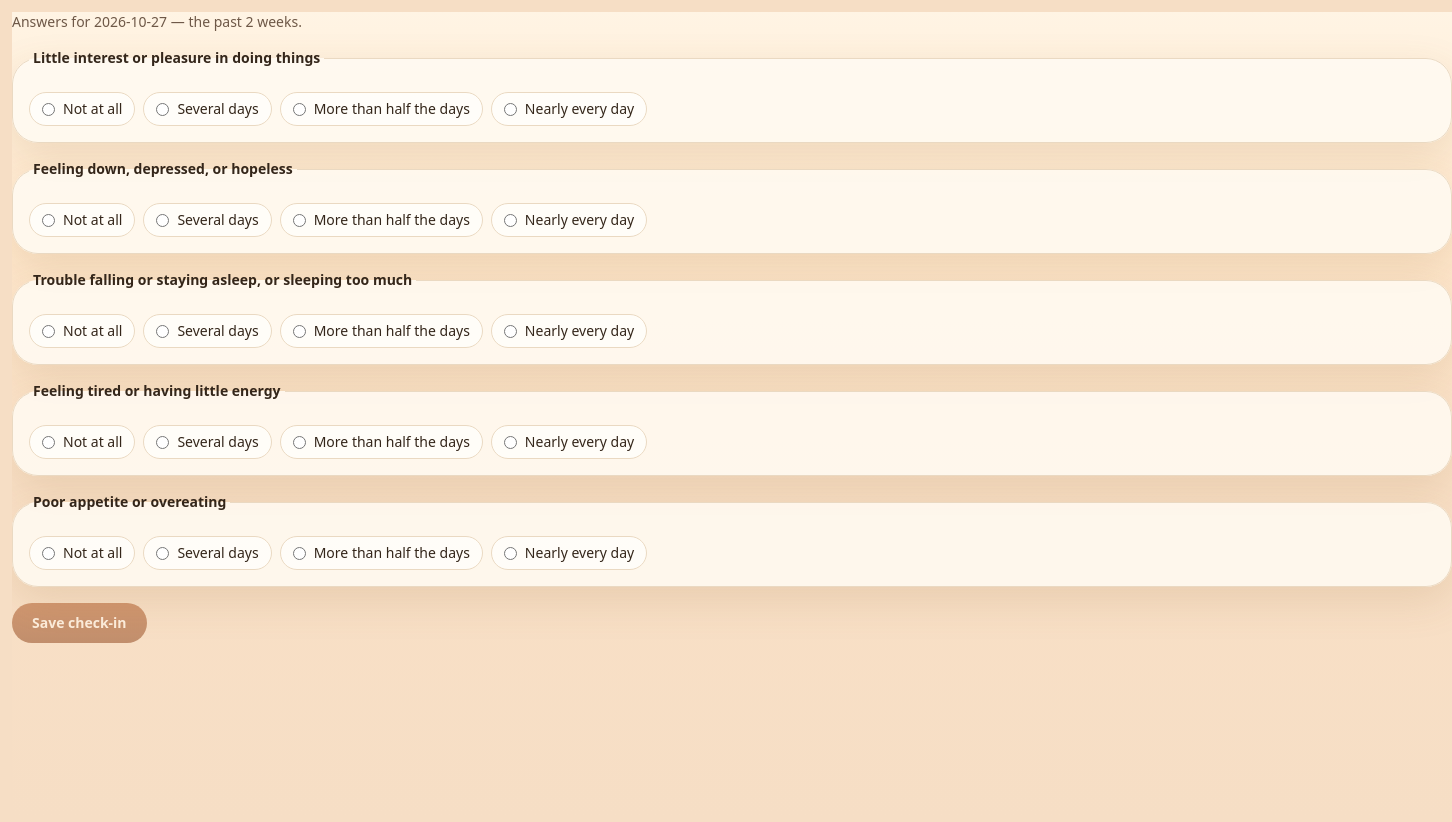
Scenario: CheckInForm submission gating › keeps submit disabled until every item is answered
Expected: the button "Save check-in" is disabled, [12,603,147,643]
Click the 1st radio button labelled "Not at all" at (48,109), box [42,102,55,116]
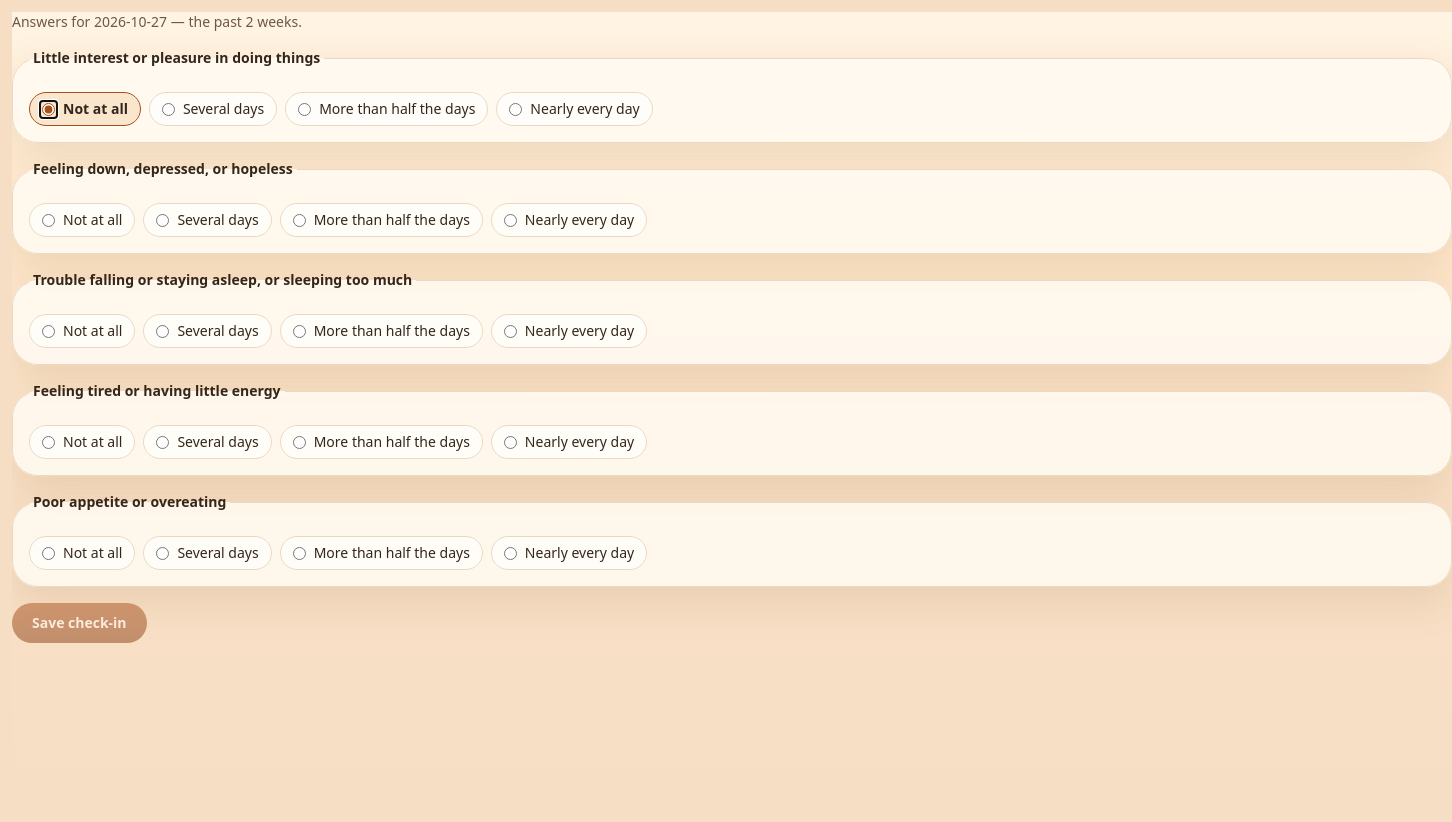
Expected: the button "Save check-in" is disabled, [12,603,147,643]
Click the radio button labelled "Not at all" below "Feeling down, depressed, or hopeless" at (48,220), box [42,214,55,226]
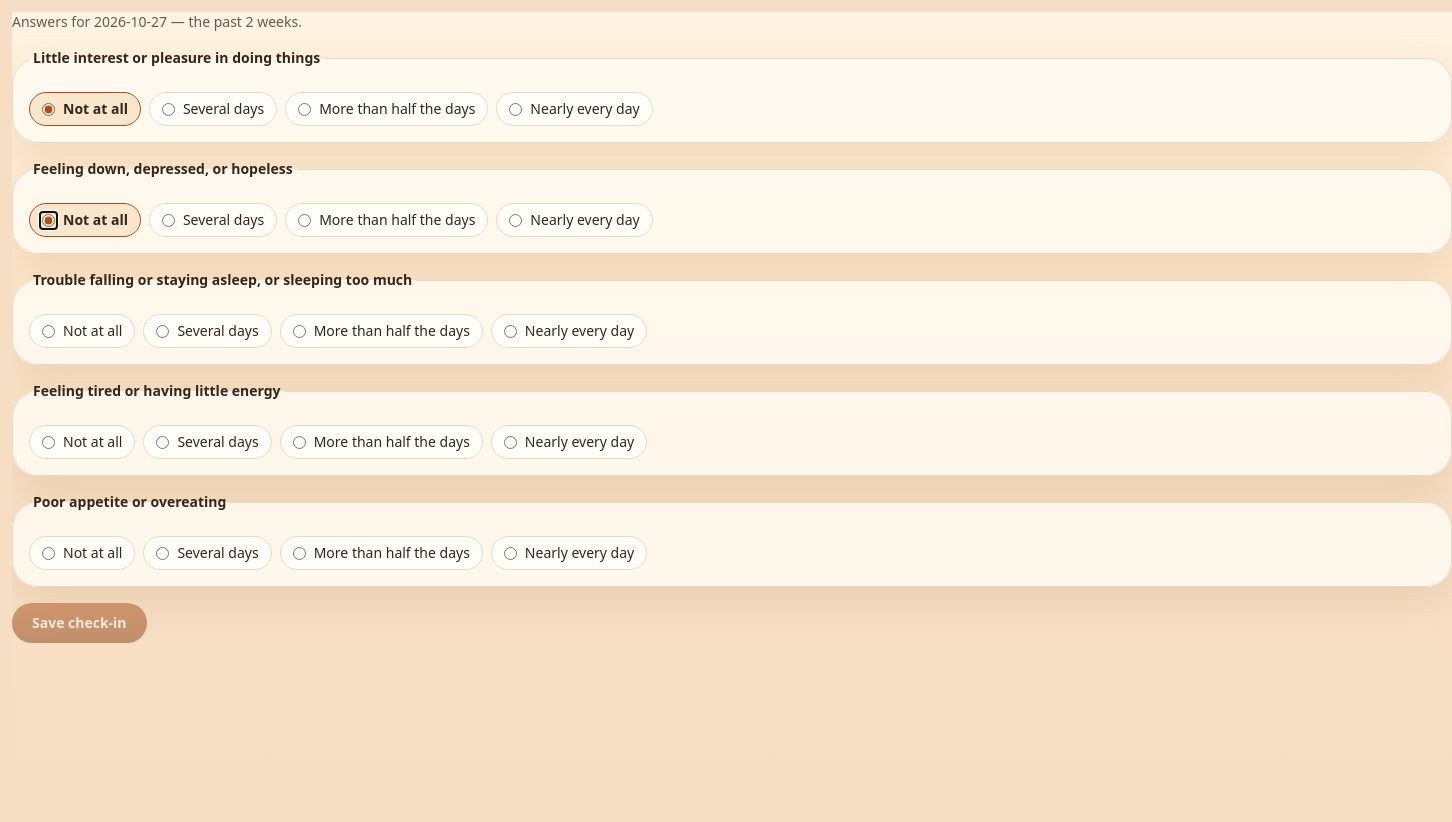
Expected: the button "Save check-in" is disabled, [12,603,147,643]
Click the 3rd radio button labelled "Not at all" at (48,331), box [42,324,55,338]
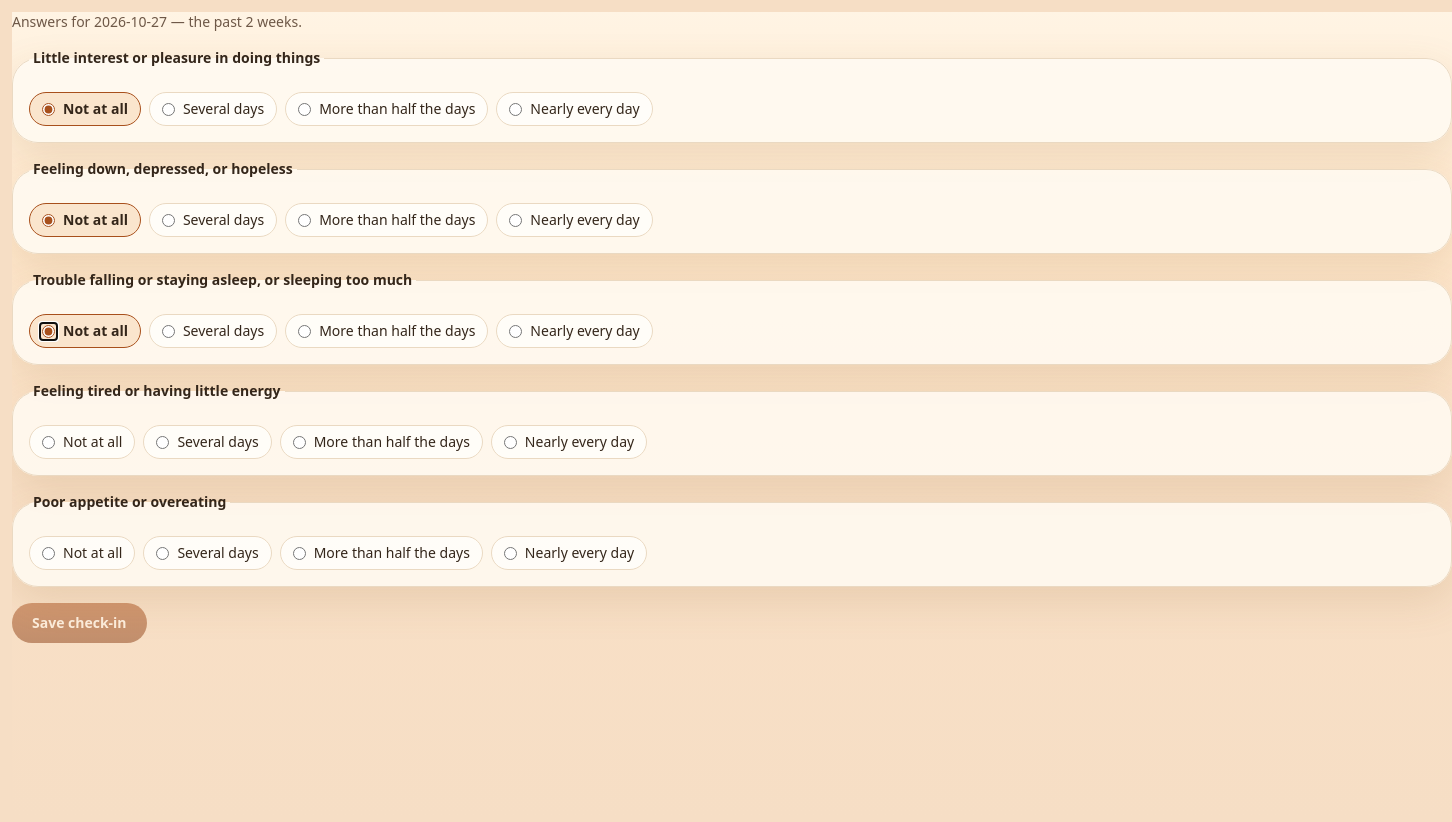
Expected: the button "Save check-in" is disabled, [12,603,147,643]
Click the radio button labelled "Not at all" below "Feeling tired or having little energy" at (48,442), box [42,436,55,448]
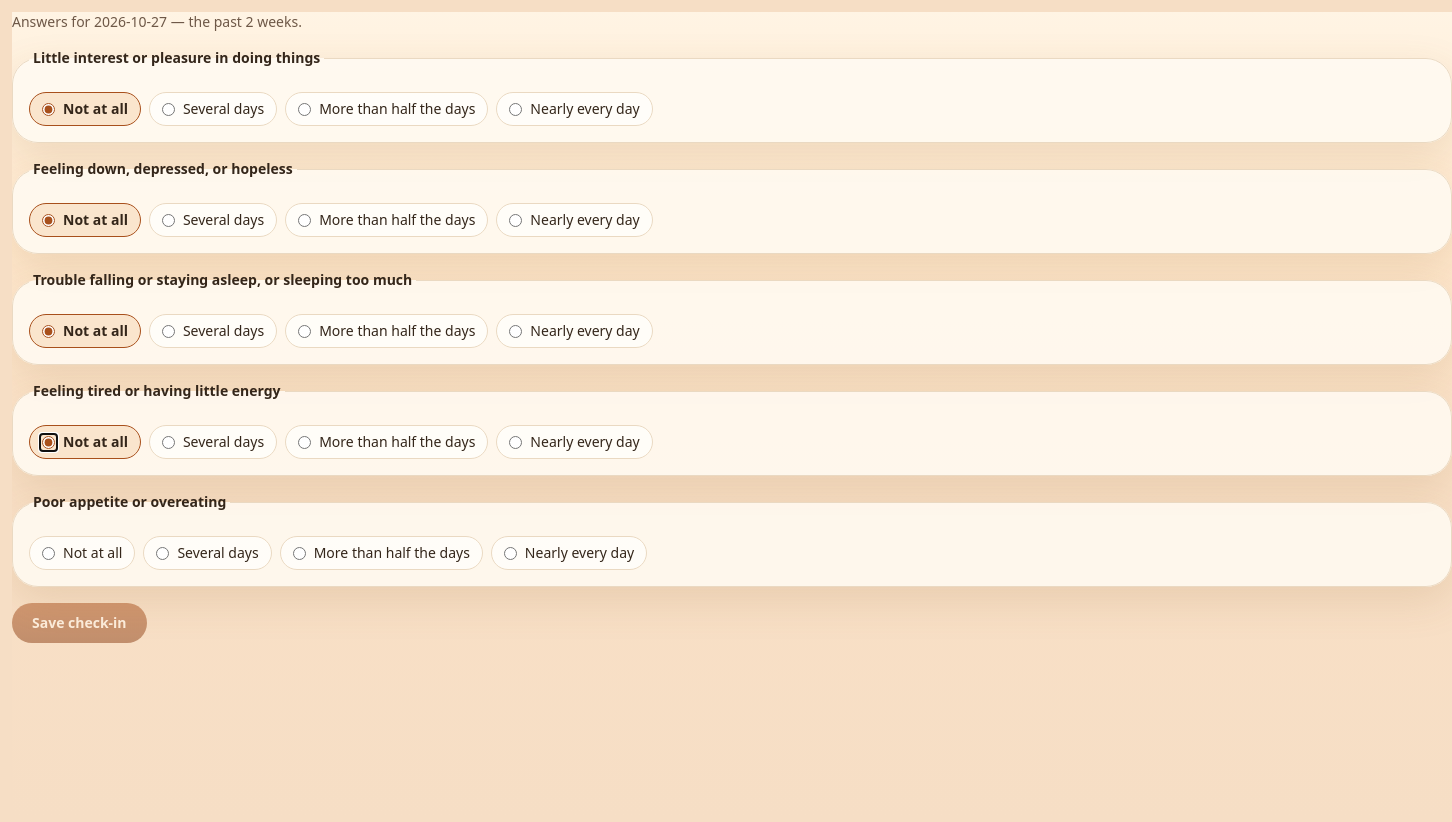
Expected: the button "Save check-in" is disabled, [12,603,147,643]
Click the radio button labelled "Not at all" below "Poor appetite or overeating" at (48,553), box [42,546,55,560]
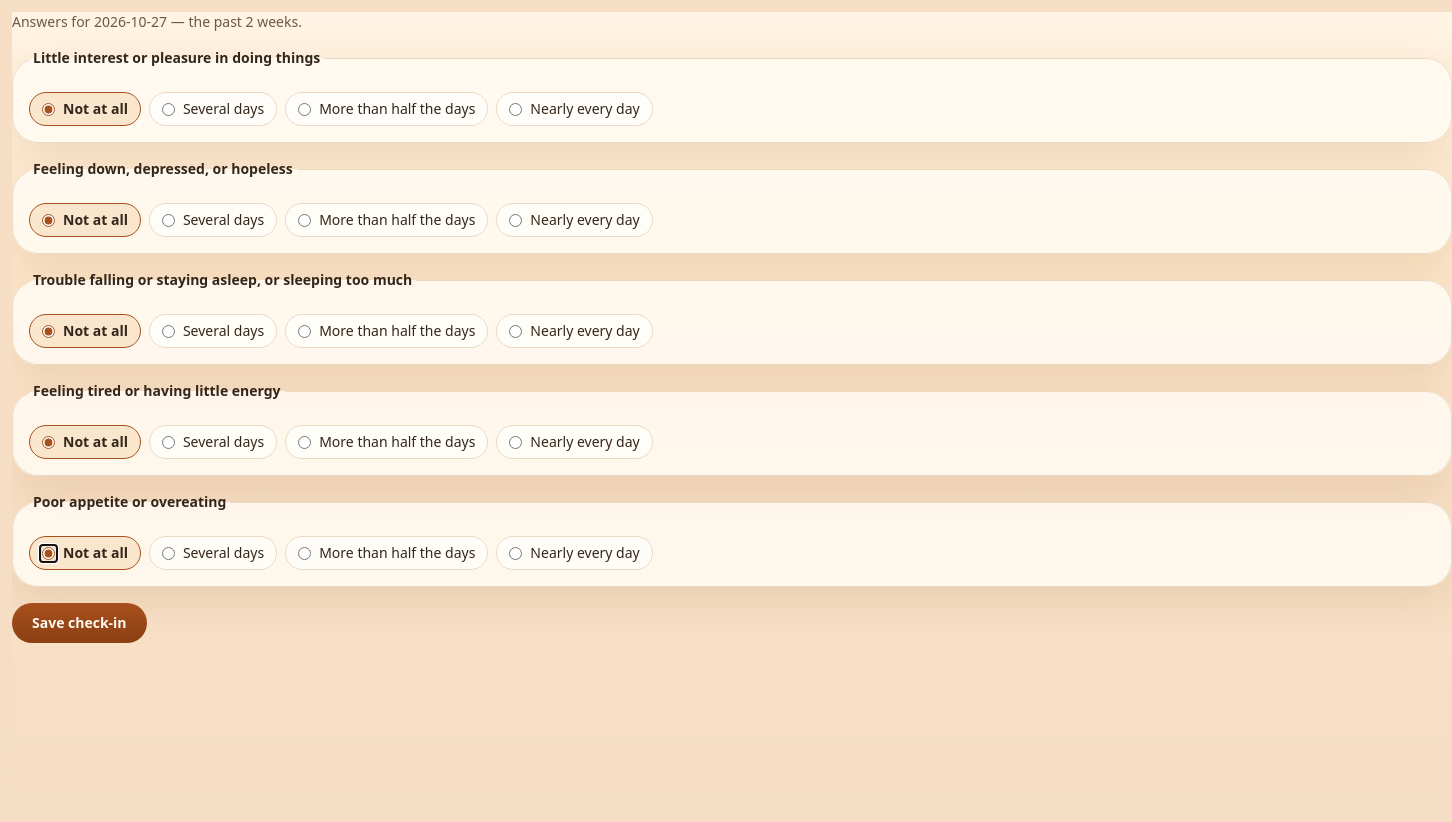
Result: the button "Save check-in" is enabled at [12,603,147,643]
